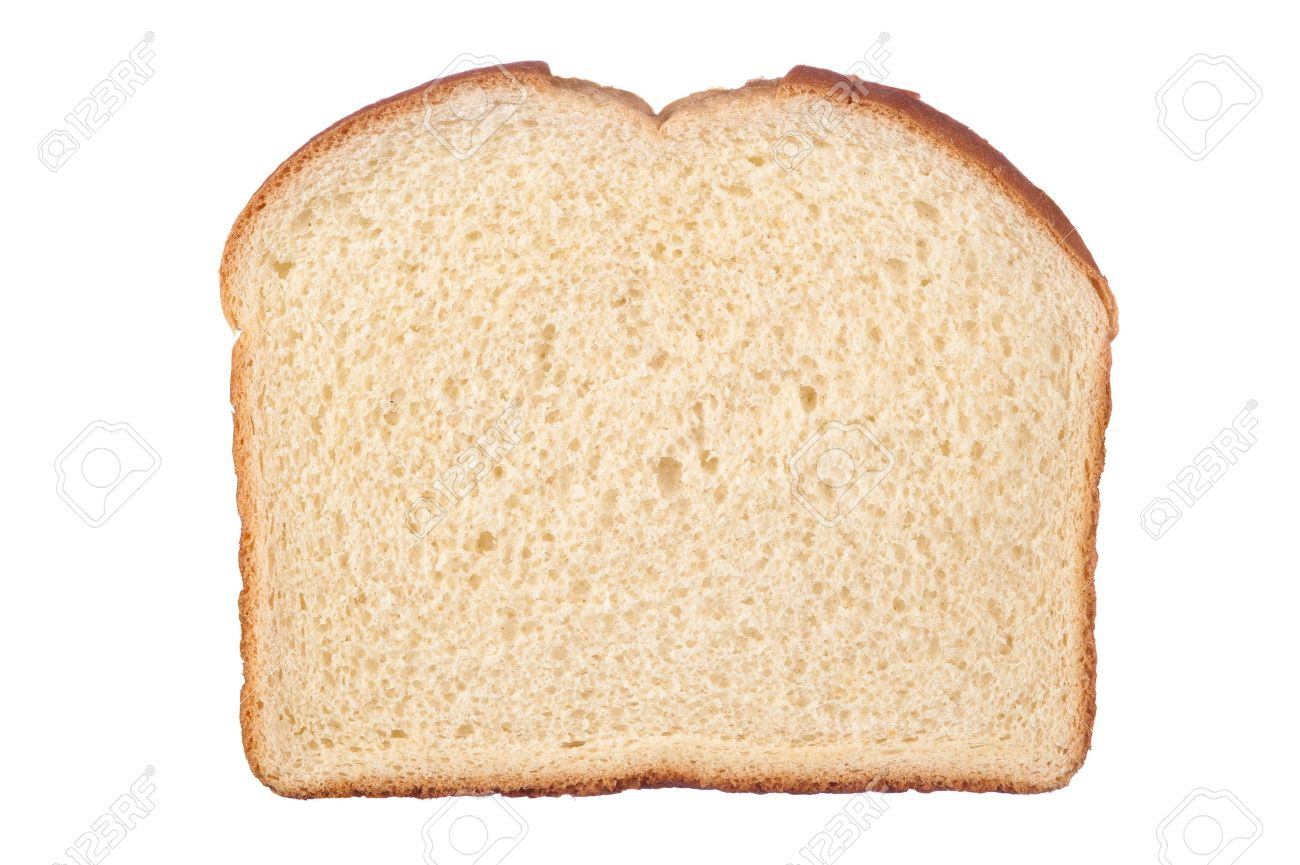slice of bread: (220, 68, 1108, 798)
